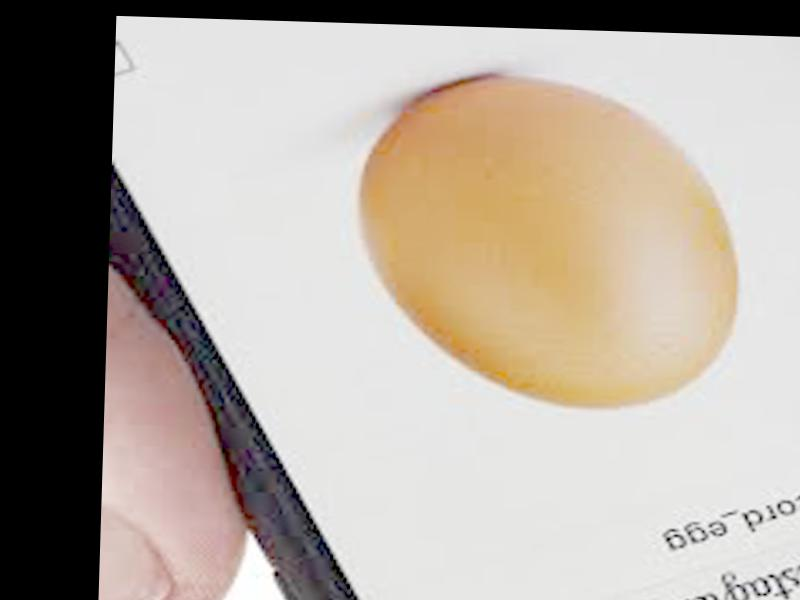Eggs: (353, 73, 743, 413)
